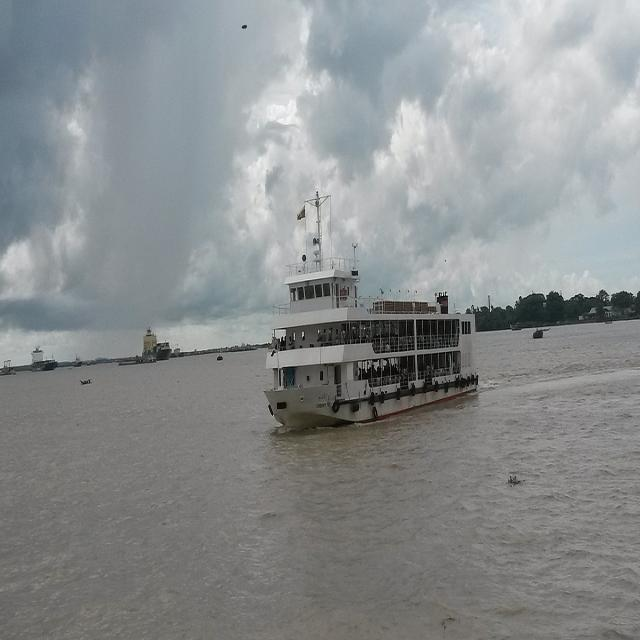passenger ship: (251, 214, 490, 408)
